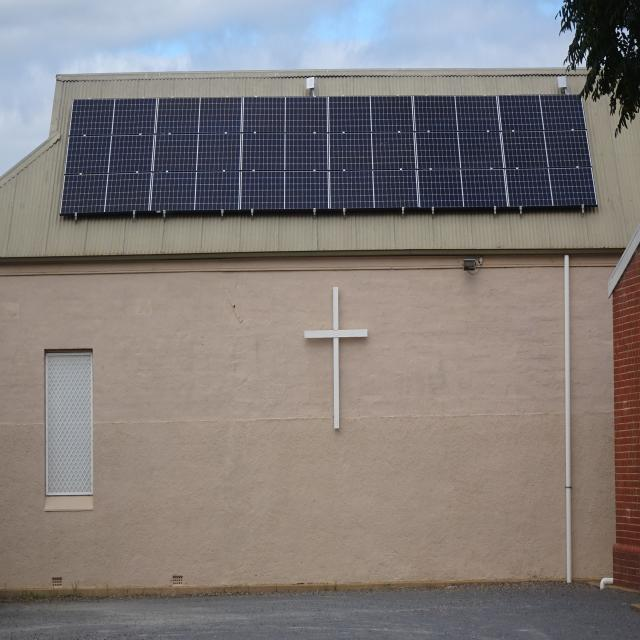clean-solar-panel: (502, 131, 546, 169)
